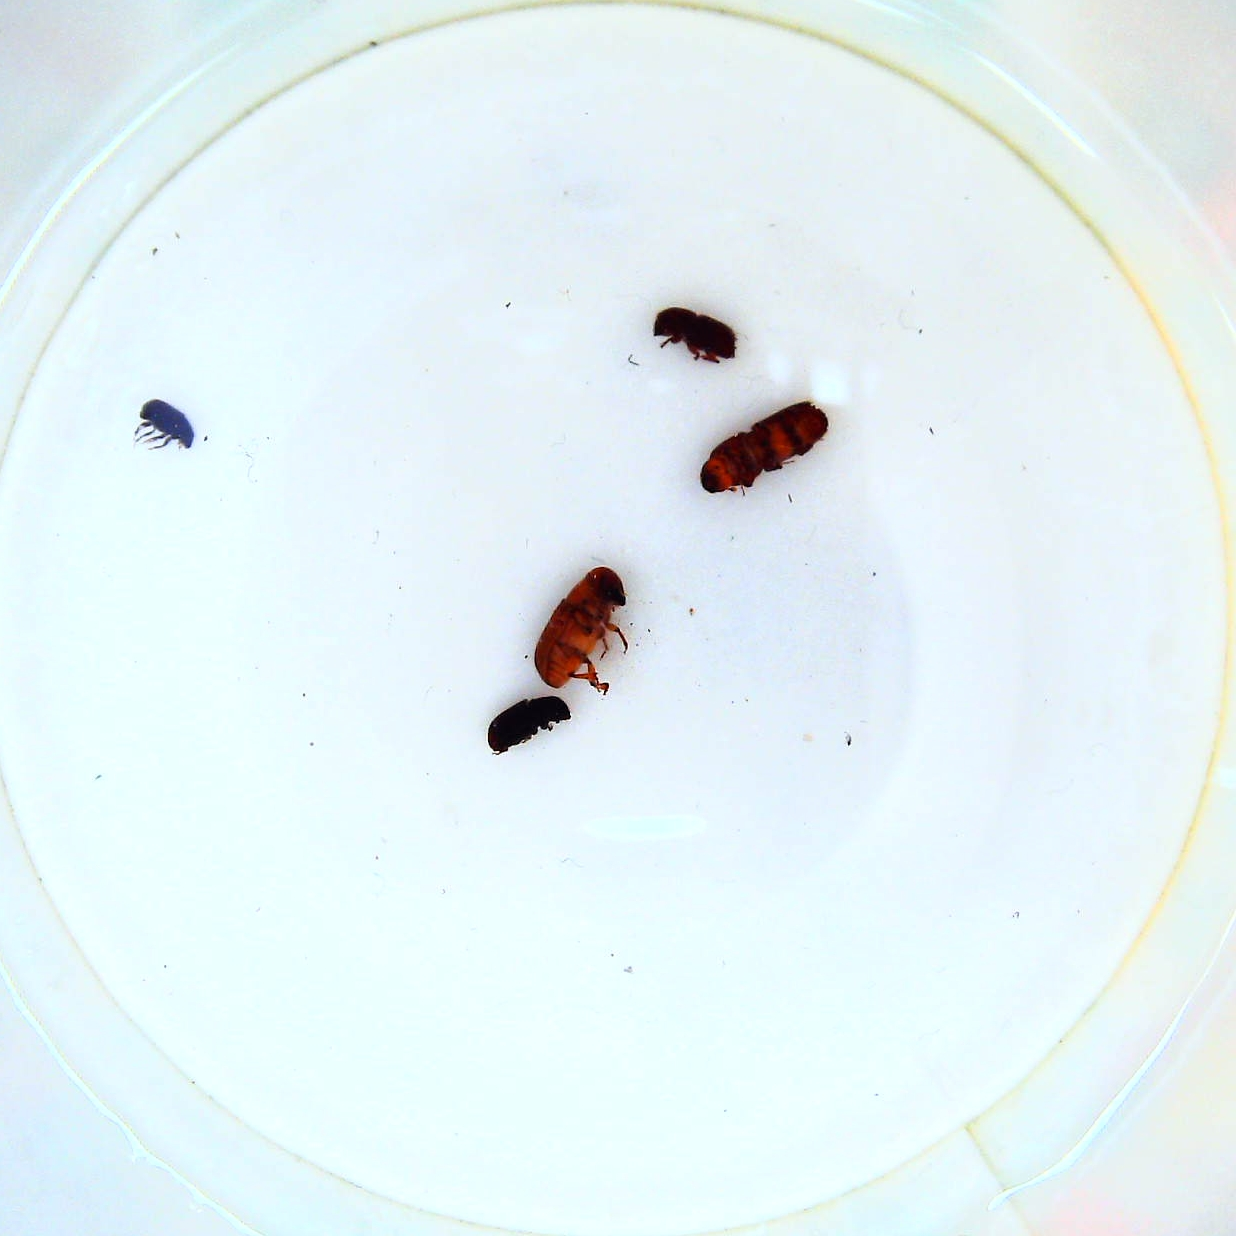Boerner: (695, 393, 832, 503)
Leconte: (534, 561, 634, 698)
armandi: (484, 695, 580, 756)
coleoptera: (132, 393, 201, 460)
linnaeus: (646, 304, 746, 369)
